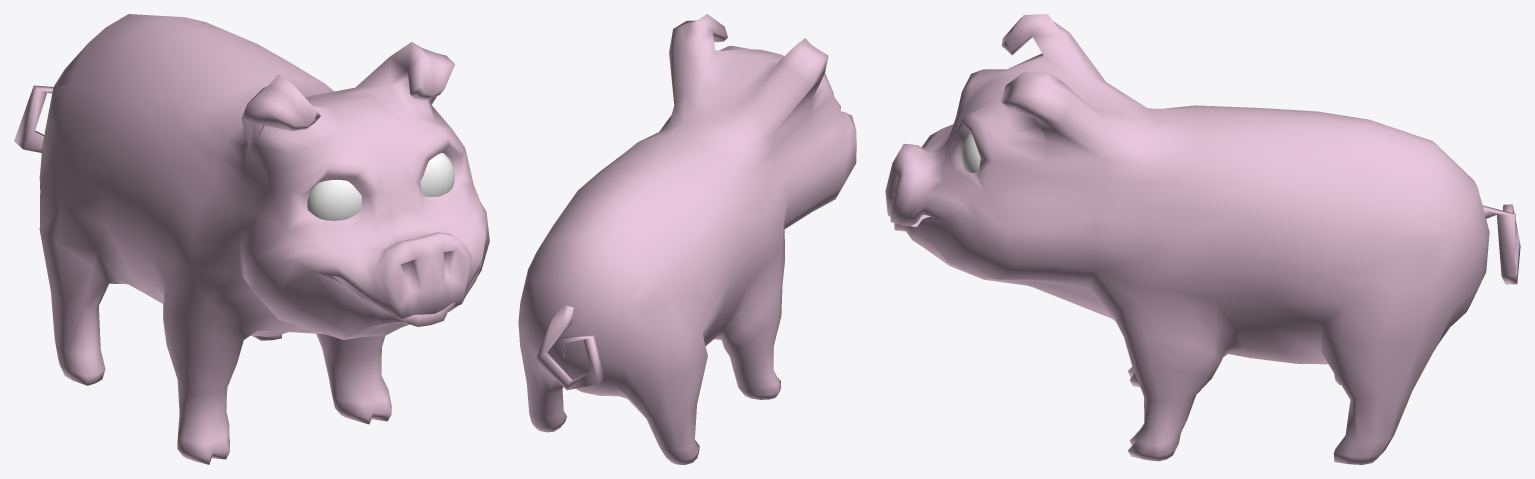
File: Pig.fbx
3 renders of one model, left to right at view 1: azimuth 30°, elevation 25°; view 2: azimuth 150°, elevation 25°; view 3: azimuth 270°, elevation 25°, orthographic. The views are drawn at different scales.
Parts seen in each view (by area): view 1: Pig; view 2: Pig; view 3: Pig.
Boxes of the visible parts, left/top/right/bottom form: Pig: left=14, top=14, right=489, bottom=464; Pig: left=518, top=14, right=856, bottom=464; Pig: left=885, top=14, right=1520, bottom=464.
Bounding box in the file's own units: 235 × 410 × 624.
